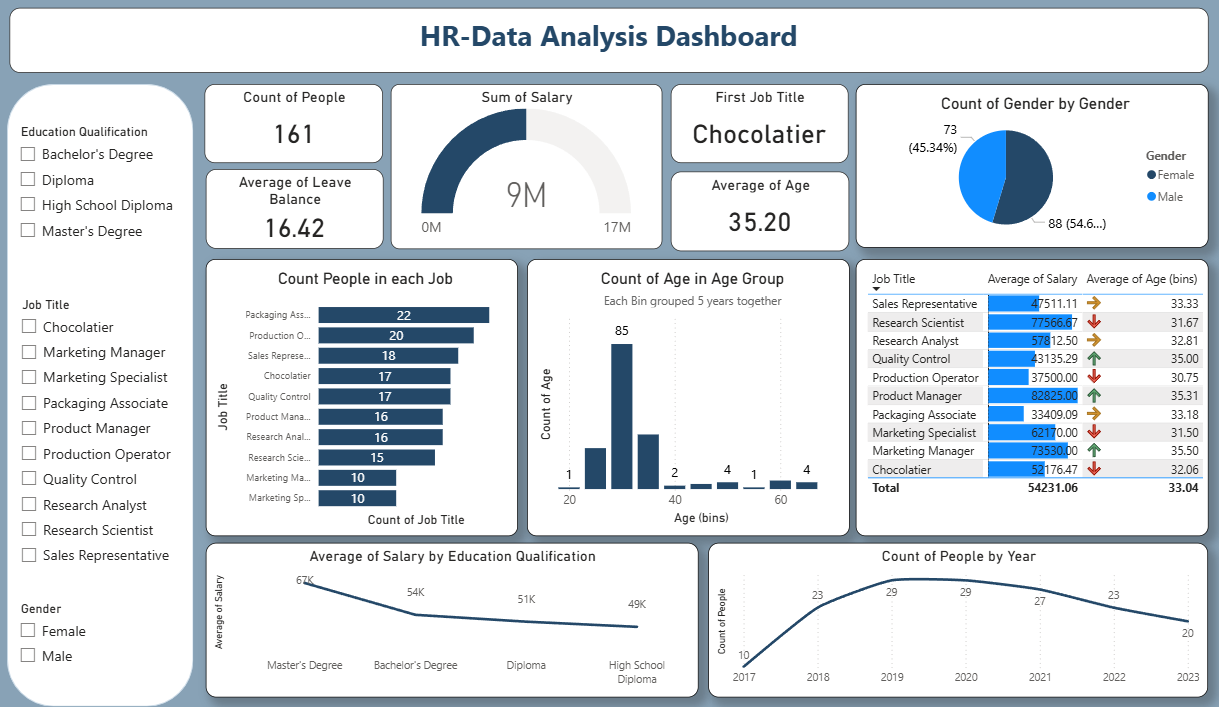

What the dashboard file says about the page in this screenshot:
{"tool":"powerbi","page":{"name":"Final Dashboard","canvas":[1400,820],"ordinal":6},"visuals":[{"type":"card","title":"First Job Title","fields":{"Values":["Min(data.Job Title)"]},"box":[770,102.9,202.9,90],"z":0},{"type":"card","title":"Average of Age","fields":{"Values":["Avg(data.Age)"]},"box":[770,202.9,204.3,91.4],"z":1000},{"type":"card","title":"Count of People","fields":{"Values":["data.Count of People"]},"box":[237.1,102.9,204.3,90],"z":2000},{"type":"card","title":"Average of Leave Balance","fields":{"Values":["Avg(data.Leave Balance)"]},"box":[238.6,200,202.9,91.4],"z":3000},{"type":"shape","box":[11.4,102.9,212.9,701.4],"z":4000},{"type":"slicer","fields":{"Values":["data.Education Qualification"]},"box":[17.1,135.7,201.4,158.6],"z":5000},{"type":"slicer","fields":{"Values":["data.Gender"]},"box":[11.4,674.3,212.9,105.7],"z":6000},{"type":"slicer","fields":{"Values":["data.Job Title"]},"box":[14.3,320,212.9,332.9],"z":7000},{"type":"gauge","fields":{"Y":["Sum(data.Salary)"]},"box":[450,102.9,310,188.6],"z":8000},{"type":"textbox","box":[14.3,15.7,1370,74.3],"z":9000},{"type":"barChart","title":"Count People in each Job","fields":{"Category":["data.Job Title"],"Y":["CountNonNull(data.Job Title)"]},"box":[238.6,302.9,357.1,317.1],"z":10000},{"type":"pieChart","fields":{"Category":["data.Gender"],"Y":["CountNonNull(data.Gender)"]},"box":[981.4,102.9,402.9,187.1],"z":11000},{"type":"clusteredColumnChart","title":"Count of Age in Age Group","fields":{"Y":["CountNonNull(data.Age)"],"Category":["data.Age (bins)"]},"box":[605.7,302.9,368.6,317.1],"z":12000},{"type":"tableEx","fields":{"Values":["data.Job Title","Avg(data.Salary)","data.Age (bins)"]},"box":[981.4,302.9,402.9,317.1],"z":13000},{"type":"lineChart","fields":{"Category":["data.Education Qualification"],"Y":["Avg(data.Salary)"]},"box":[238.6,627.1,562.9,177.1],"z":14000},{"type":"lineChart","fields":{"Y":["data.Count of People"],"Category":["data.Date of Join.Variation.Date Hierarchy.Year"]},"box":[812.9,627.1,571.4,177.1],"z":15000}]}

Visuals, with their boxes in screenshot pixels (x1, y1, x2, y2), scaled from the page's 1400x820 canvas onto the 1219x707 screenshot:
"First Job Title" card: bbox(670, 89, 847, 166)
"Average of Age" card: bbox(670, 175, 848, 254)
"Count of People" card: bbox(206, 89, 384, 166)
"Average of Leave Balance" card: bbox(208, 172, 384, 251)
shape: bbox(10, 89, 195, 693)
slicer - data.Education Qualification: bbox(15, 117, 190, 254)
slicer - data.Gender: bbox(10, 581, 195, 673)
slicer - data.Job Title: bbox(12, 276, 198, 563)
gauge - Sum(data.Salary): bbox(392, 89, 662, 251)
textbox: bbox(12, 14, 1205, 78)
"Count People in each Job" barChart: bbox(208, 261, 519, 535)
pieChart - data.Gender x CountNonNull(data.Gender): bbox(855, 89, 1205, 250)
"Count of Age in Age Group" clusteredColumnChart: bbox(527, 261, 848, 535)
tableEx - data.Job Title x Avg(data.Salary): bbox(855, 261, 1205, 535)
lineChart - data.Education Qualification x Avg(data.Salary): bbox(208, 541, 698, 693)
lineChart - data.Count of People x data.Date of Join.Variation.Date Hierarchy.Year: bbox(708, 541, 1205, 693)
